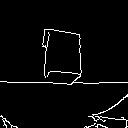cube: (27, 20, 87, 96)
